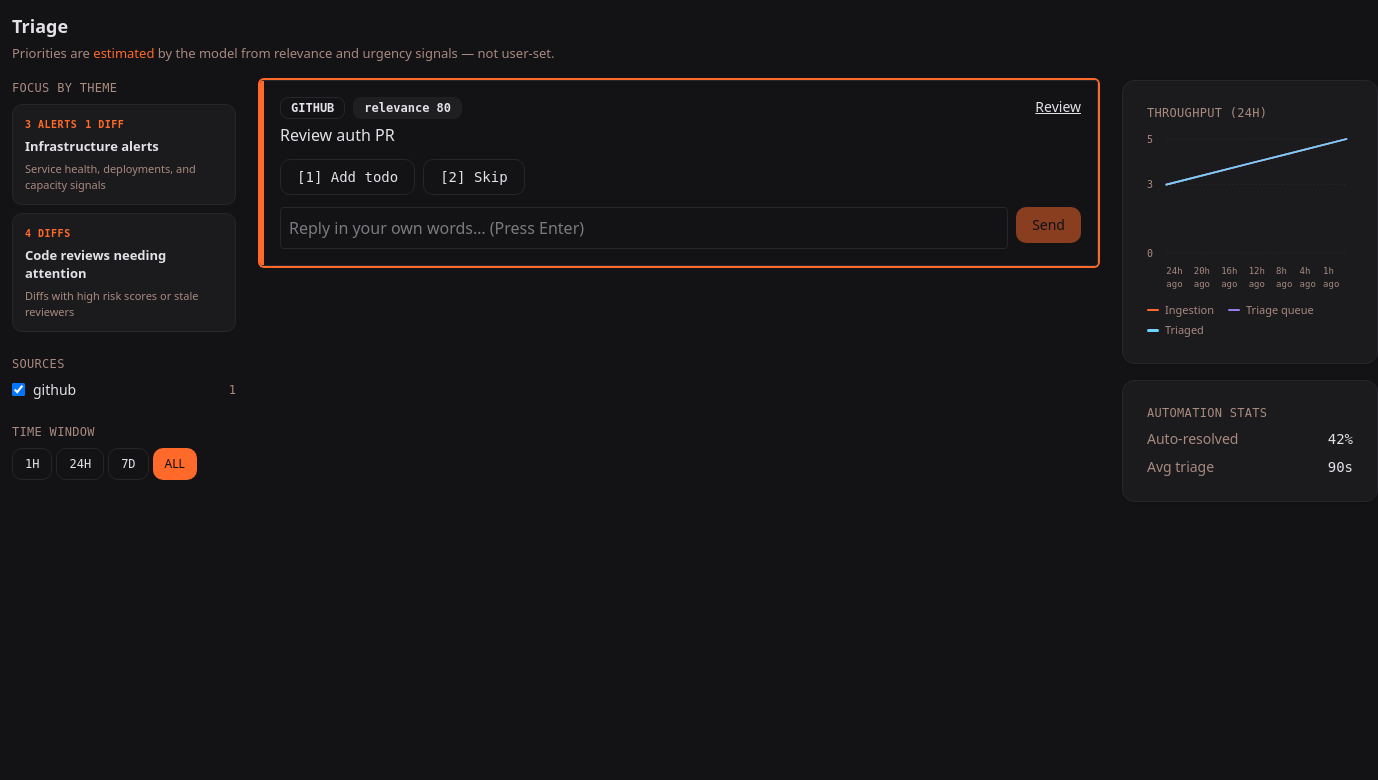
Test case: Triage page › surfaces a friendly toast when /respond returns 409 (already answered)
The width and height of the screenshot is (1378, 780).
Step 1. Click the button "[1] Add todo" → (348, 177), box [280,159,415,195]
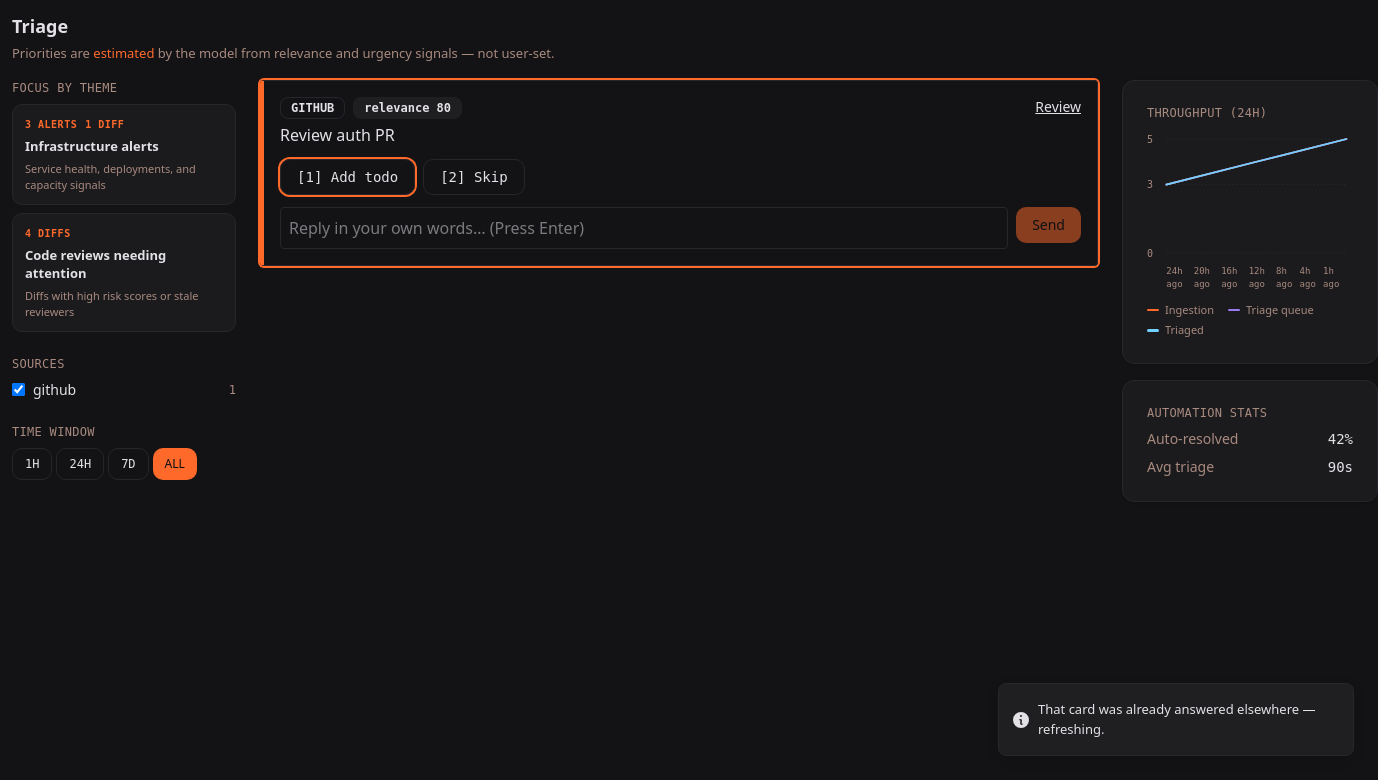
Result: the text "That card was already answered elsewhere — refreshing." is shown at [1038,700,1337,739]
